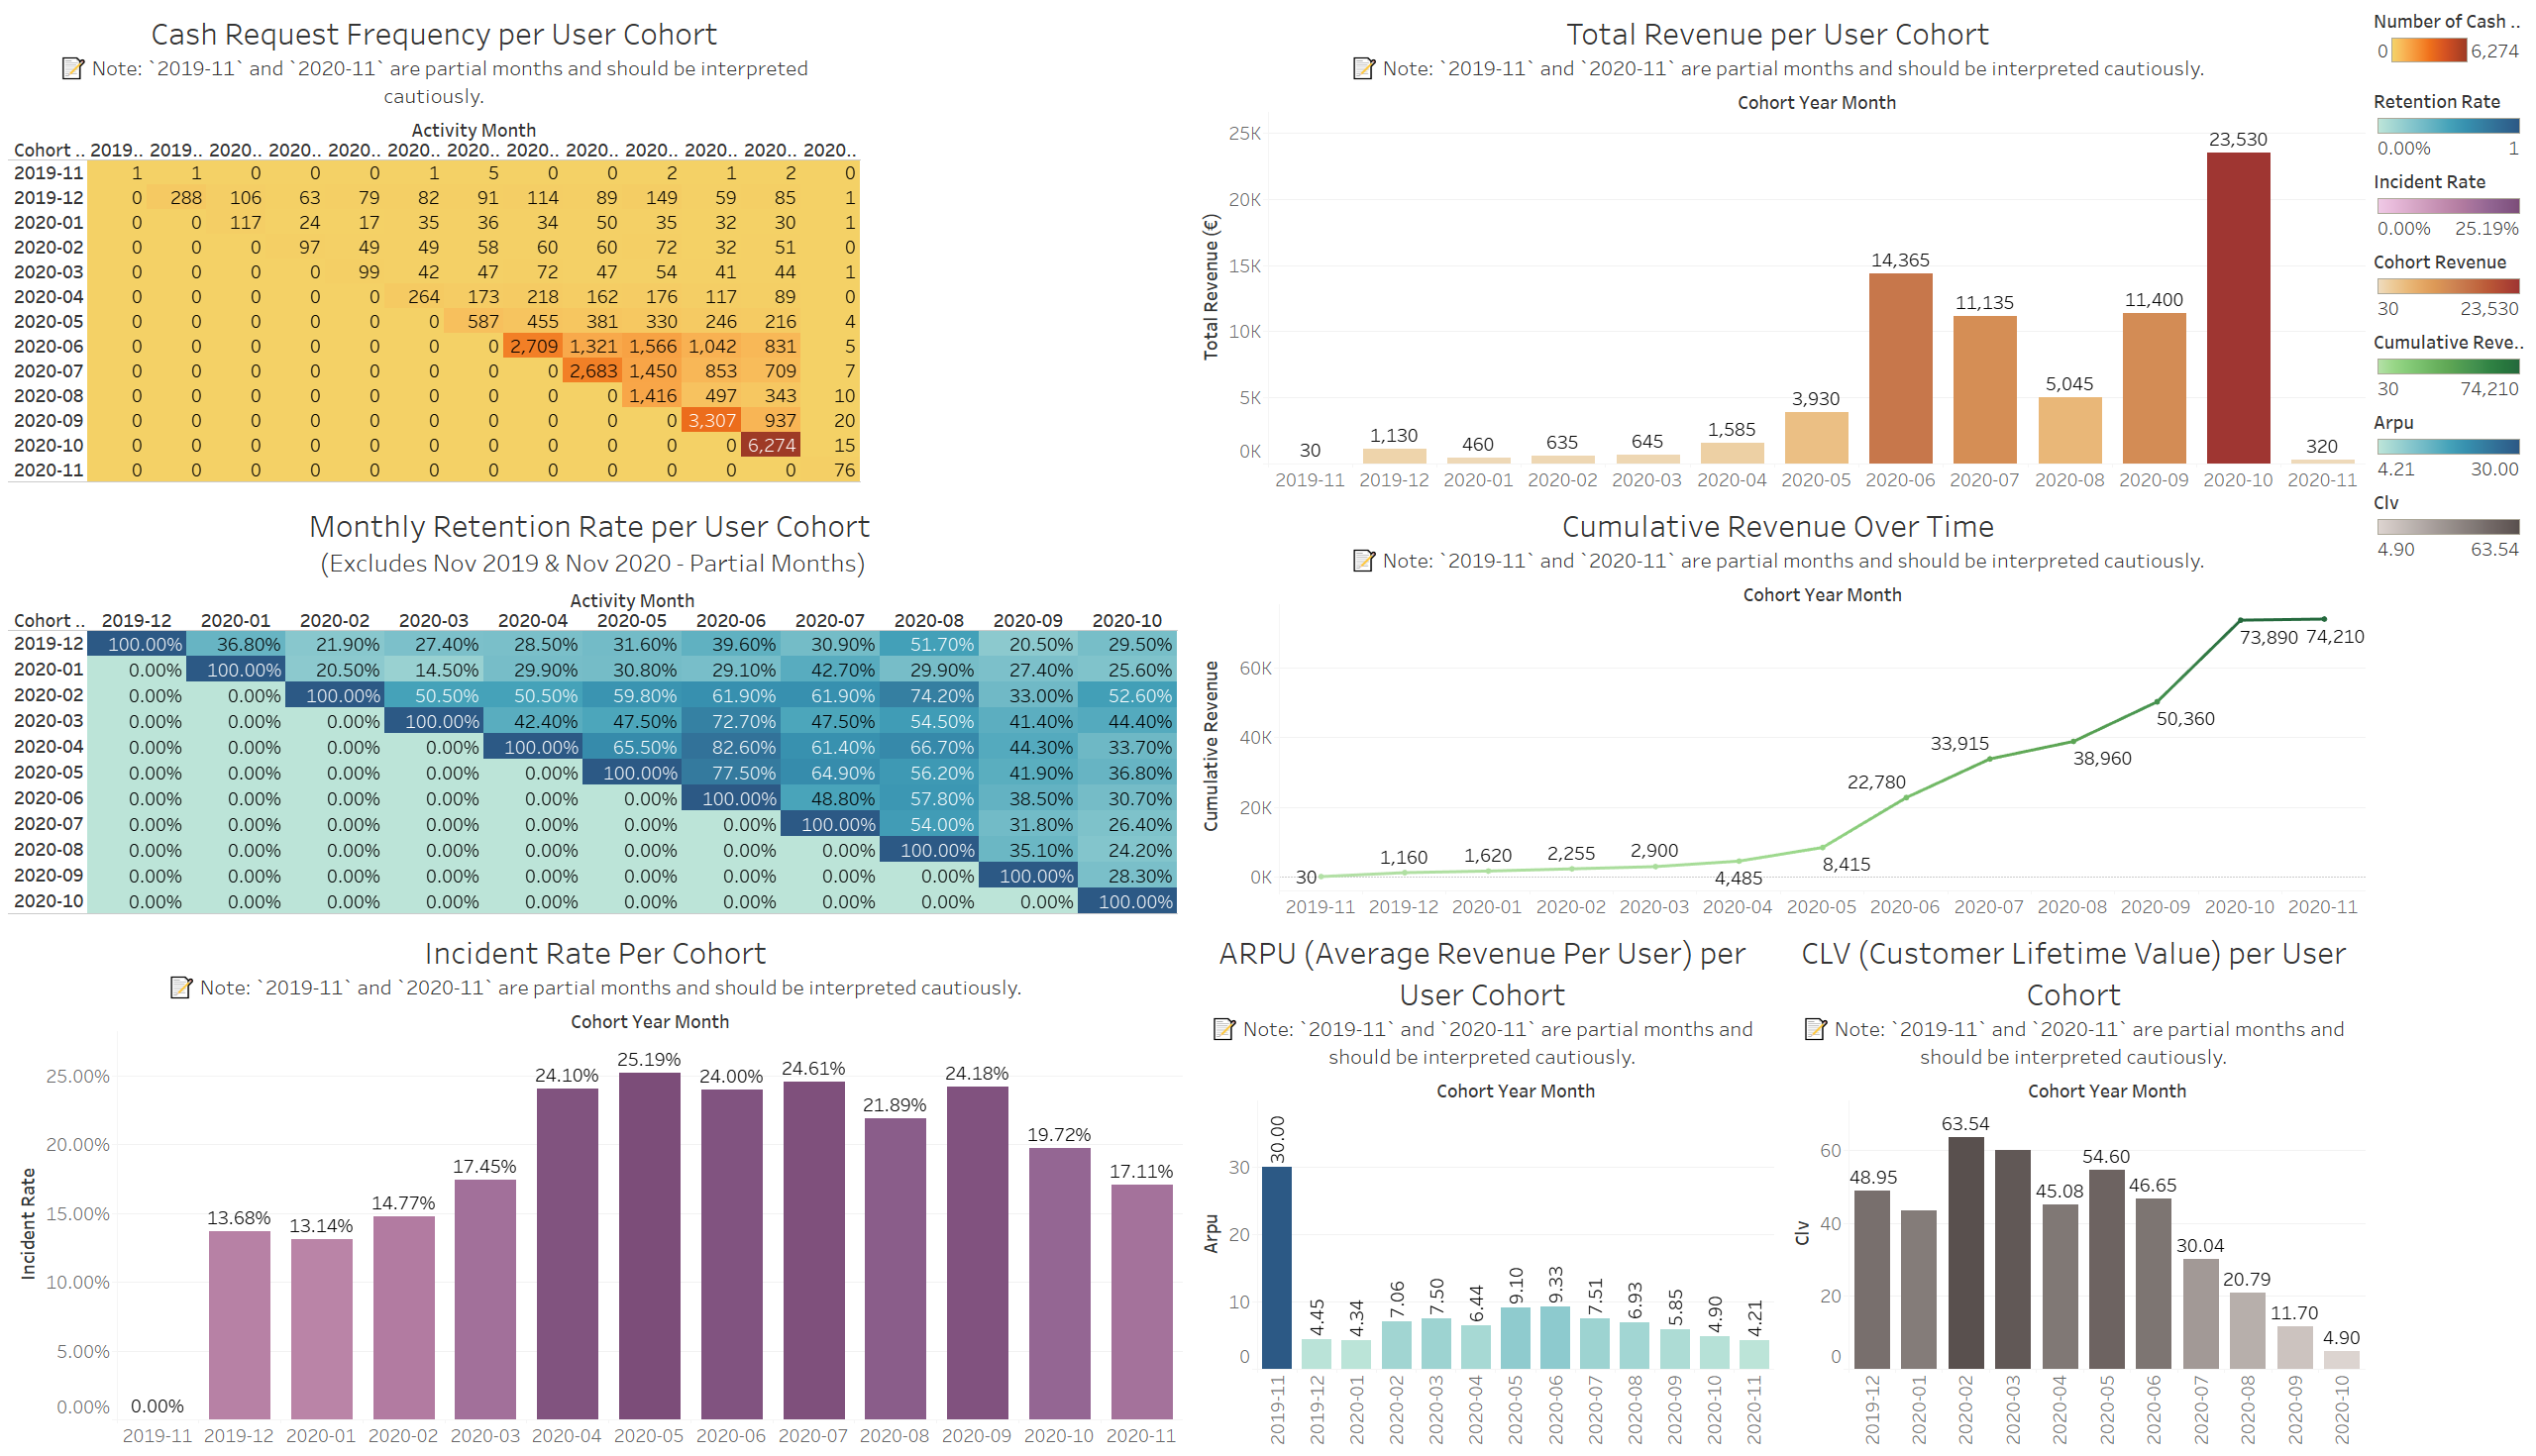

This screenshot's page, from the dashboard's own definition file:
{"tool":"tableau","page":{"name":"Ironhack Payments – Cohort Analysis Dashboard","canvas":[1000,1000],"units":"permille","ordinal":0},"visuals":[{"type":"worksheet","title":"Service Usage Heatmap","mark":"Square","rows":["cohort_year_month"],"cols":["Pivot Field Names"],"box":[3.1,5.4,465.7,336.3]},{"type":"worksheet","title":"Revenue per Cohort","mark":"Bar","rows":["cohort_revenue"],"cols":["cohort_year_month"],"box":[468.8,5.4,465.7,336.3]},{"type":"legend","title":"Service Usage Heatmap","param":"[federated.0gdz8x61s2e1y01c50b3h0r0gdlz].[sum:Pivot Field Values:qk]","box":[934.5,5.4,62.4,54.8]},{"type":"legend","title":"Retention Rate Heatmap","param":"[federated.1upcv9t07x1fin1fox7q21gqz2ga].[sum:Pivot Field Values:qk]","box":[934.5,60.2,62.4,54.8]},{"type":"legend","title":"Incident Rate Per Cohort Bar Chart","param":"[federated.0ukcq4w0bkexwi1afia411arog6r].[sum:incident_rate:qk]","box":[934.5,115,62.4,54.8]},{"type":"legend","title":"Revenue per Cohort","param":"[federated.0yh6gyp1mbik1y1fnmrxk01nfy6k].[sum:cohort_revenue:qk]","box":[934.5,169.8,62.4,54.8]},{"type":"legend","title":"Cumulative Revenue Time Series","param":"[federated.1yxgzxk1v2fkrb1afrkmi00a1oyi].[sum:cumulative_revenue:qk]","box":[934.5,224.6,62.4,54.8]},{"type":"legend","title":"ARPU per Cohort Bar Chart","param":"[federated.1hf10xo1499sq31c8g7kh1u27zn8].[sum:arpu:qk]","box":[934.5,279.4,62.4,54.8]},{"type":"legend","title":"CLV per Cohort Bar Chart","param":"[federated.0d3vgbl10zze9n1bgwekd1y424jn].[sum:clv:qk]","box":[934.5,334.2,62.4,54.8]},{"type":"worksheet","title":"Retention Rate Heatmap","mark":"Square","rows":["cohort_year_month"],"cols":["Pivot Field Names"],"box":[3.1,341.7,465.7,291.6]},{"type":"worksheet","title":"Cumulative Revenue Time Series","mark":"Line","rows":["cumulative_revenue"],"cols":["cohort_year_month"],"box":[468.8,341.7,465.7,291.6]},{"type":"worksheet","title":"Incident Rate Per Cohort Bar Chart","mark":"Bar","rows":["incident_rate"],"cols":["cohort_year_month"],"box":[3.1,633.3,465.7,361.3]},{"type":"worksheet","title":"ARPU per Cohort Bar Chart","mark":"Automatic","rows":["arpu"],"cols":["cohort_year_month"],"box":[468.8,633.3,232.8,361.3]},{"type":"worksheet","title":"CLV per Cohort Bar Chart","mark":"Automatic","rows":["clv"],"cols":["cohort_year_month"],"box":[701.6,633.3,232.8,361.3]}]}

Visuals, with their boxes on the dashboard's canvas, which has no fixed pixel size, in thousandths of its width and height (x1, y1, x2, y2). These are canvas units, not pixel positions in the 2536x1456 screenshot, which may show the page scaled, cropped or inside an application window:
"Service Usage Heatmap" worksheet (Square marks): <bbox>3, 5, 469, 342</bbox>
"Revenue per Cohort" worksheet (Bar marks): <bbox>469, 5, 934, 342</bbox>
"Service Usage Heatmap" legend: <bbox>934, 5, 997, 60</bbox>
"Retention Rate Heatmap" legend: <bbox>934, 60, 997, 115</bbox>
"Incident Rate Per Cohort Bar Chart" legend: <bbox>934, 115, 997, 170</bbox>
"Revenue per Cohort" legend: <bbox>934, 170, 997, 225</bbox>
"Cumulative Revenue Time Series" legend: <bbox>934, 225, 997, 279</bbox>
"ARPU per Cohort Bar Chart" legend: <bbox>934, 279, 997, 334</bbox>
"CLV per Cohort Bar Chart" legend: <bbox>934, 334, 997, 389</bbox>
"Retention Rate Heatmap" worksheet (Square marks): <bbox>3, 342, 469, 633</bbox>
"Cumulative Revenue Time Series" worksheet (Line marks): <bbox>469, 342, 934, 633</bbox>
"Incident Rate Per Cohort Bar Chart" worksheet (Bar marks): <bbox>3, 633, 469, 995</bbox>
"ARPU per Cohort Bar Chart" worksheet: <bbox>469, 633, 702, 995</bbox>
"CLV per Cohort Bar Chart" worksheet: <bbox>702, 633, 934, 995</bbox>
